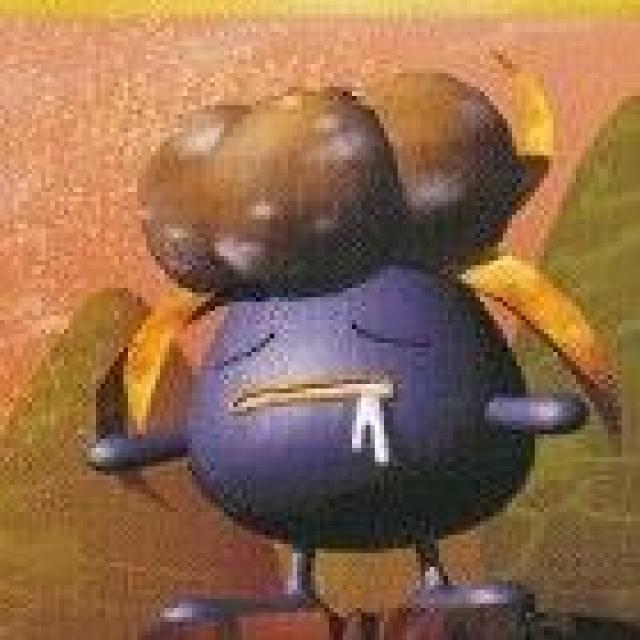Gloom: (143, 69, 548, 618)
